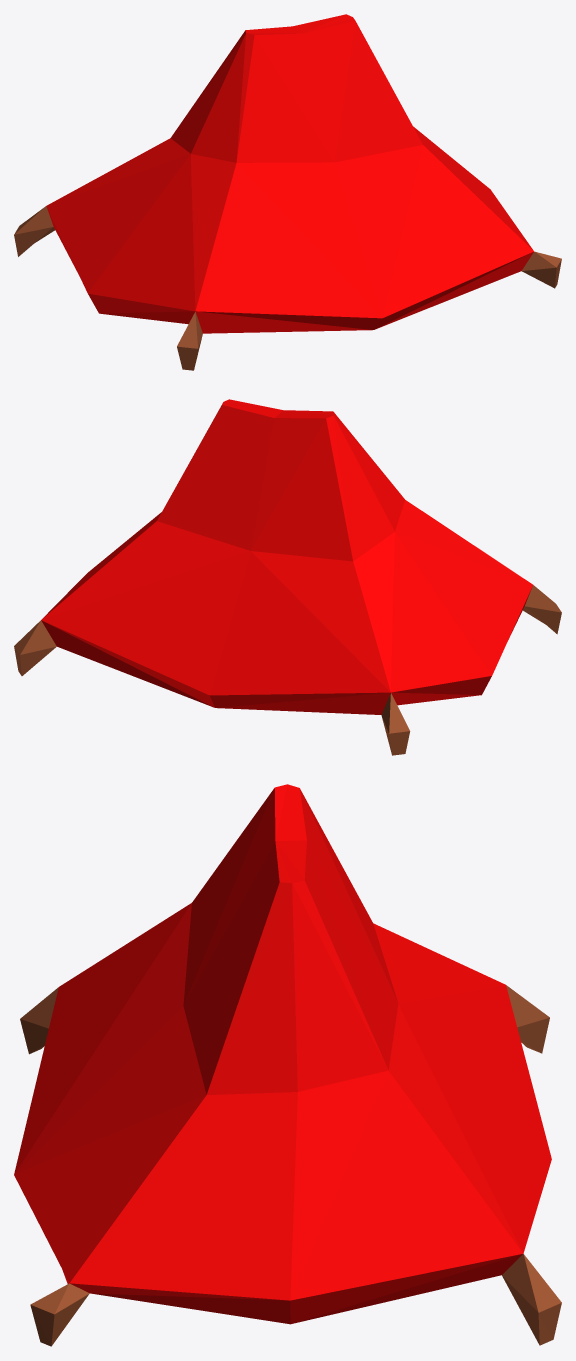
Rendered from Prop_Building_Savage_Tribal_Roof_Cloth_Timber_Peaked_02.FBX.
3 views of the same model, one above another, from view 1: azimuth 30°, elevation 25°; view 2: azimuth 150°, elevation 25°; view 3: azimuth 270°, elevation 25° (orthographic). The views are drawn at different scales.
Visible parts, largest first — view 1: Prop_Building_Savage_Tribal_Roof_Cloth_Timber_Peaked_02; view 2: Prop_Building_Savage_Tribal_Roof_Cloth_Timber_Peaked_02; view 3: Prop_Building_Savage_Tribal_Roof_Cloth_Timber_Peaked_02.
Boxes of the visible parts, <box> form: Prop_Building_Savage_Tribal_Roof_Cloth_Timber_Peaked_02: <box>14,14,561,370</box>; Prop_Building_Savage_Tribal_Roof_Cloth_Timber_Peaked_02: <box>14,399,561,755</box>; Prop_Building_Savage_Tribal_Roof_Cloth_Timber_Peaked_02: <box>14,784,561,1346</box>.
Size of the model in its own units: 9291 by 5548 by 7116.
